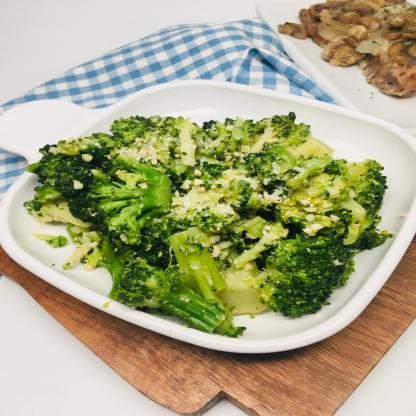broccoli: (23, 110, 394, 338)
